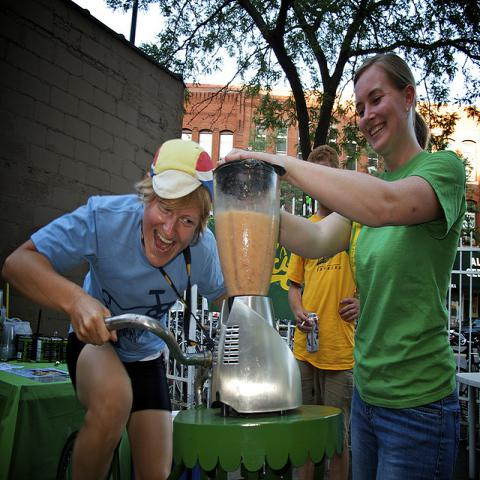car: (451, 317, 479, 340)
